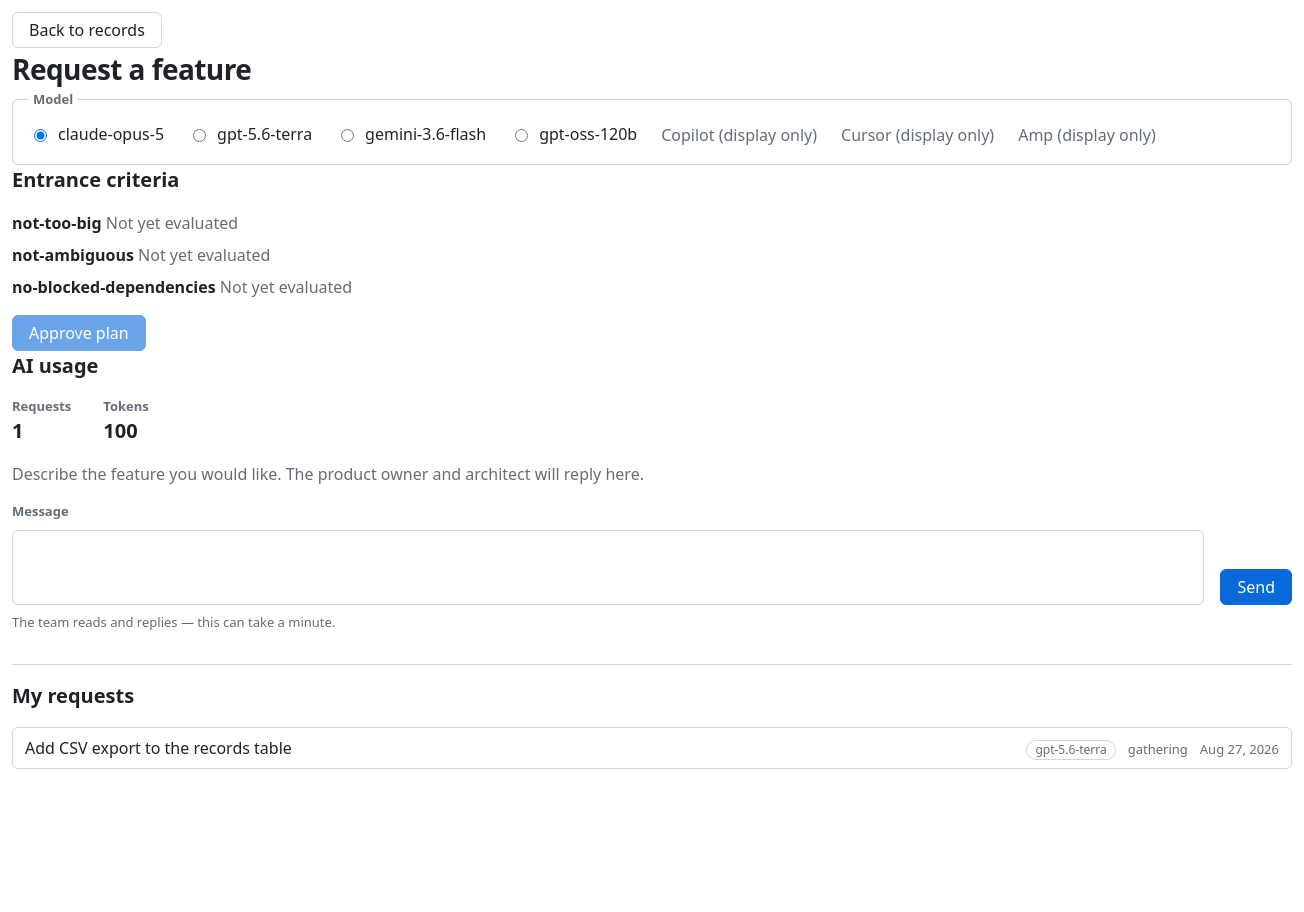
DAN-82 · onNavigate fires when a session acquires a URL › opening a list entry navigates to /requests/:id and adopts without refetching
This screenshot has width=1304, height=912.
Click the button "Add CSV export to the records table gathering Aug 27, 2026" at [158, 748], box 12,727 -> 1292,769
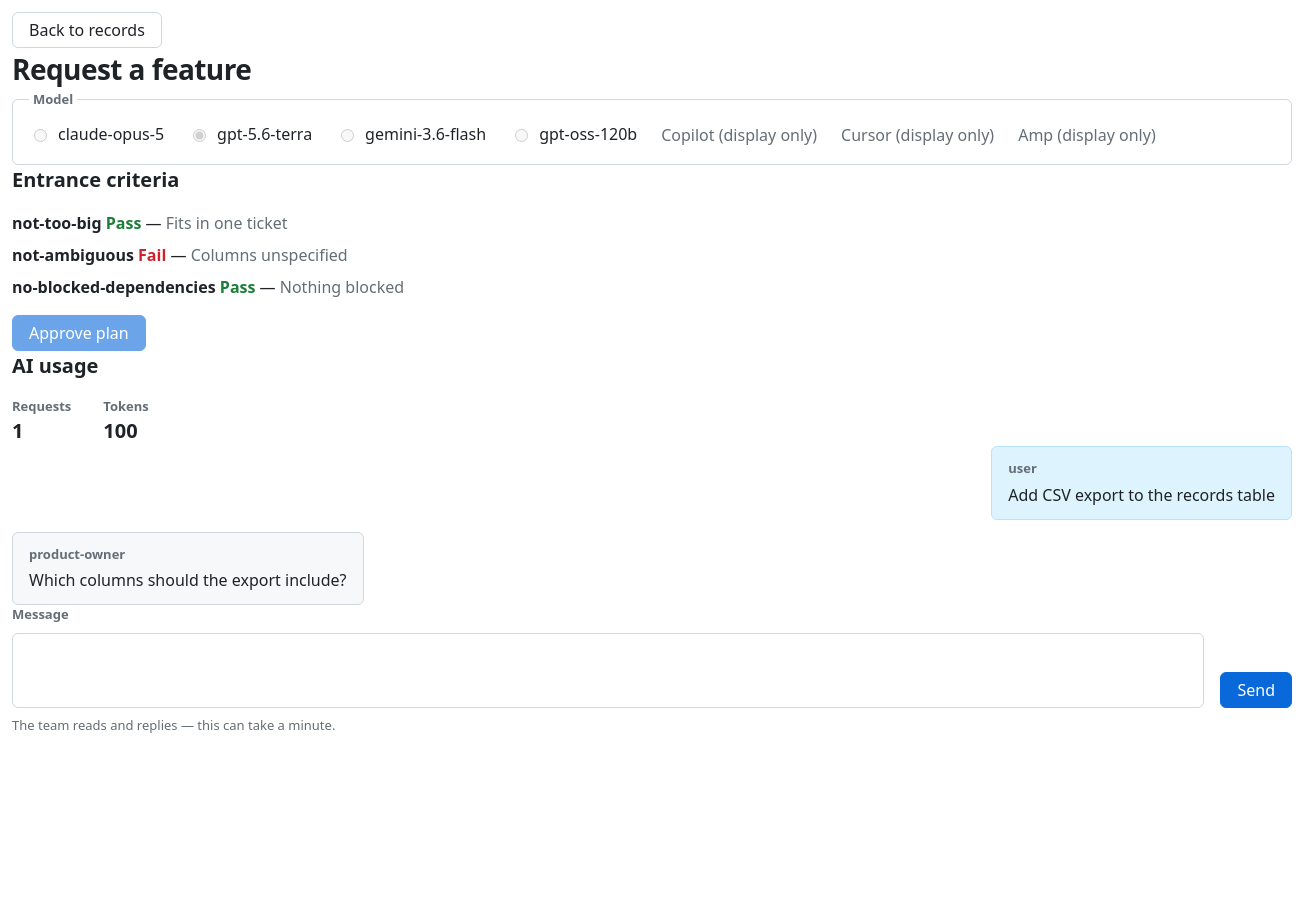
Expected: the list named "Conversation" is shown, 12,446 -> 1292,605
